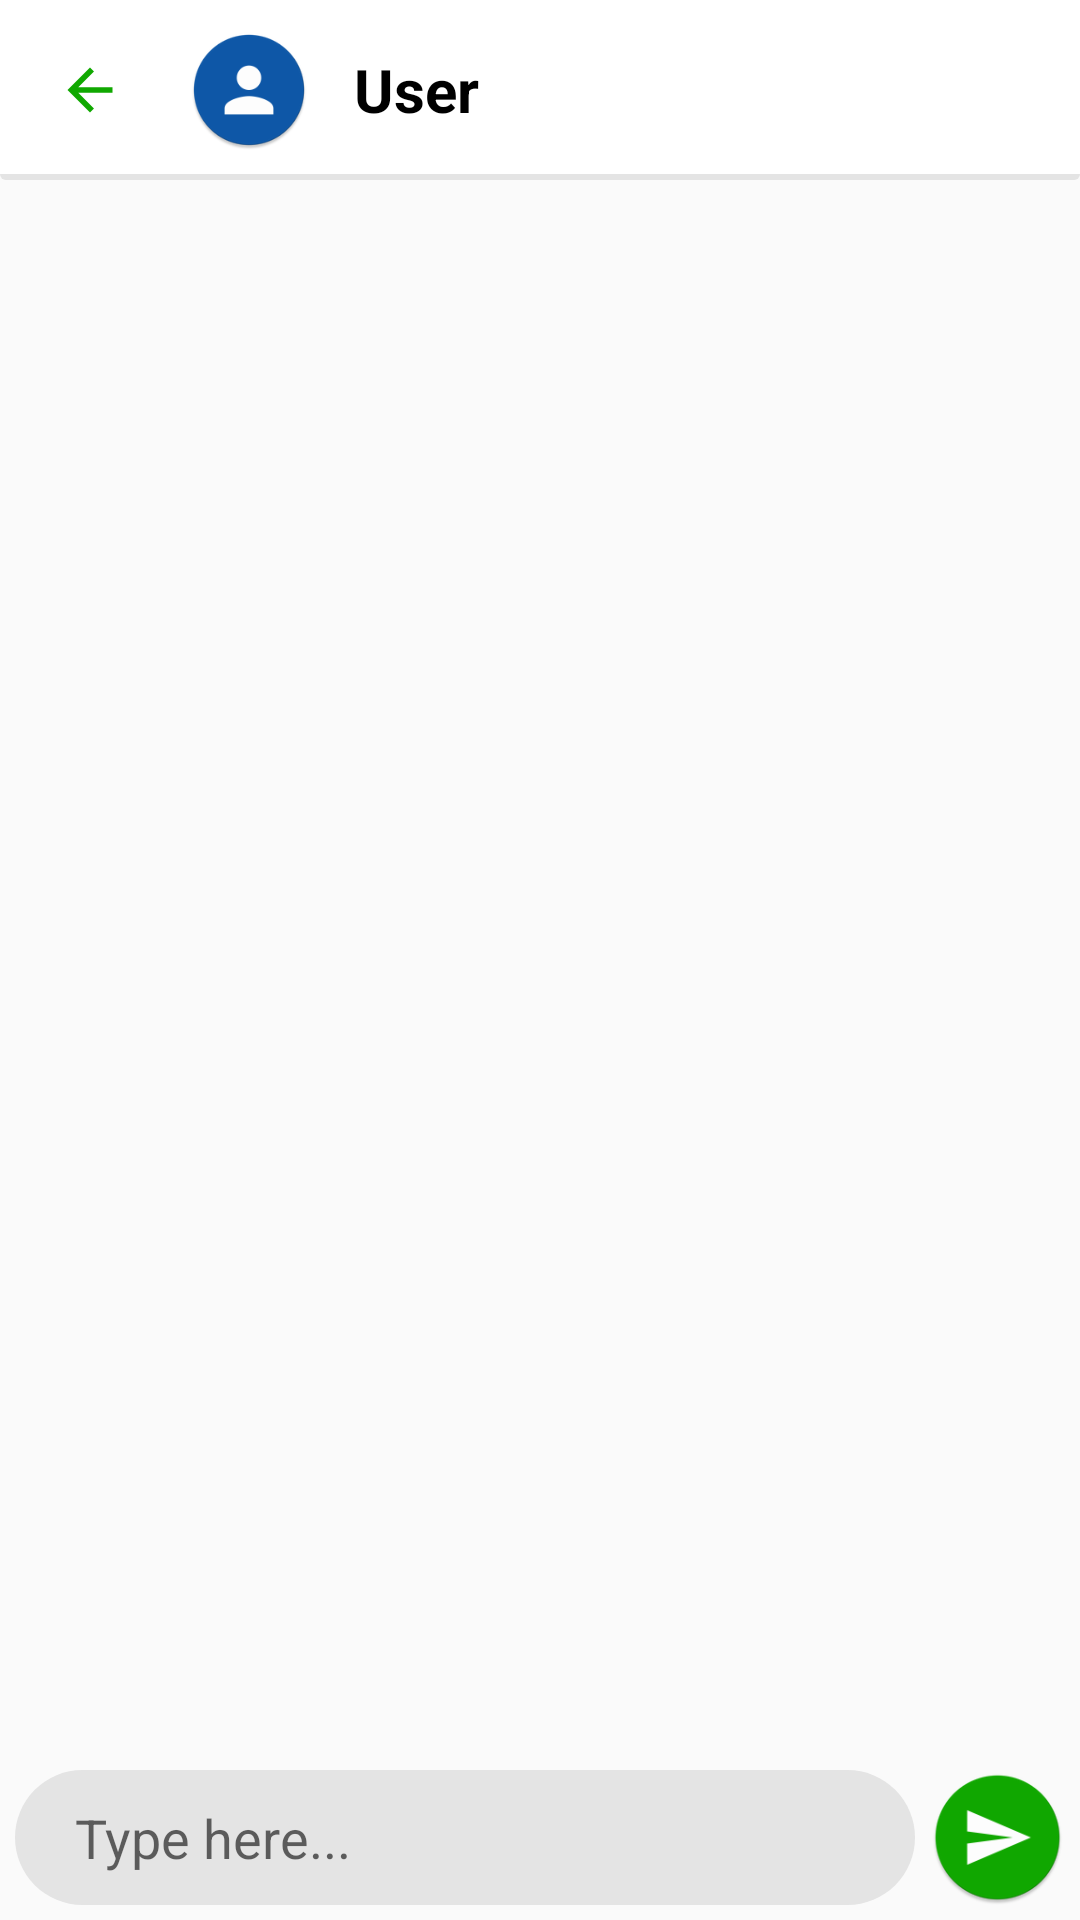

Screen size 1080 × 1920. Icon name, then its center in pixels as (x=x, y=y):
back arrow: (x=90, y=90)
send: (x=997, y=1839)
